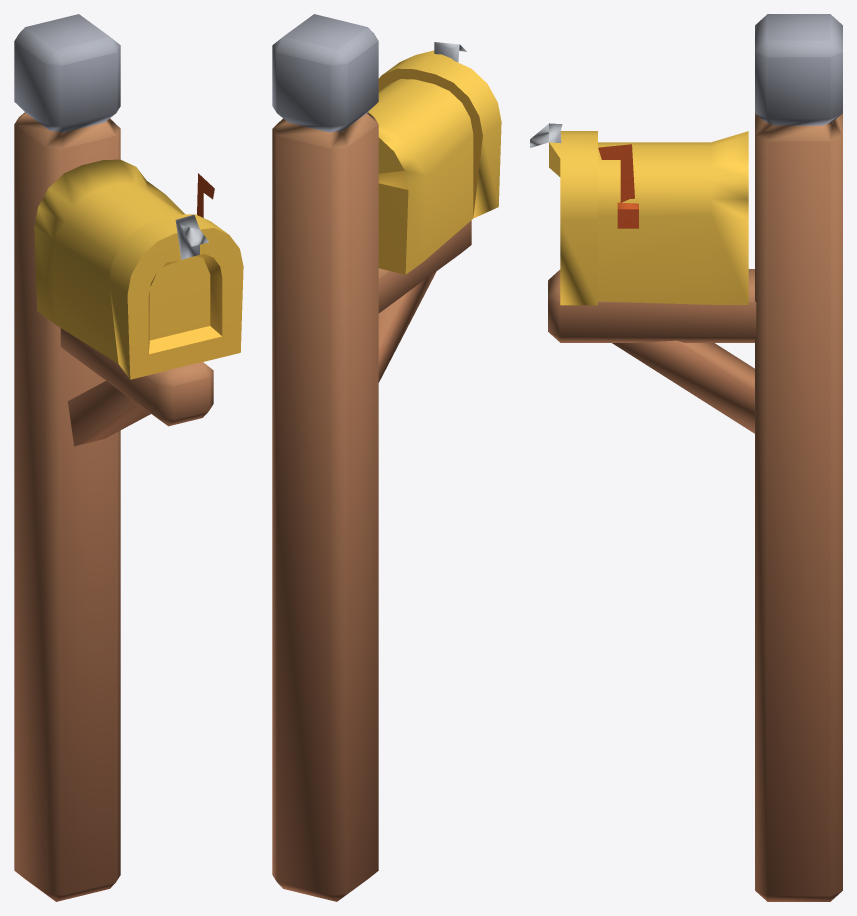
Rendered from mailbox.glb.
The picture shows the model from 3 angles, left to right: view 1: azimuth 30°, elevation 25°; view 2: azimuth 150°, elevation 25°; view 3: azimuth 270°, elevation 25°; orthographic projection.
Parts seen in each view (by area): view 1: mailbox.002, mailbox_door.002; view 2: mailbox.002, mailbox_door.002; view 3: mailbox.002, mailbox_door.002, mailbox_flag.002.
Boxes of the visible parts, x1,y1,x2,y2 form: mailbox.002: (14, 14, 213, 901); mailbox_door.002: (109, 214, 243, 379); mailbox.002: (272, 14, 473, 901); mailbox_door.002: (378, 42, 501, 218); mailbox.002: (548, 14, 842, 901); mailbox_door.002: (530, 123, 597, 305); mailbox_flag.002: (598, 144, 638, 228).
Size of the model in its own units: 0.5527 by 3.79 by 1.25.
1 material, 1 textured.
